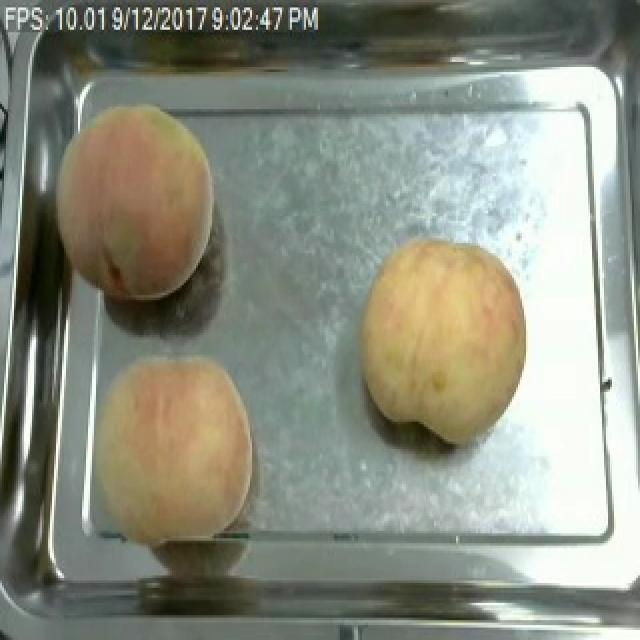Fruit: (348, 228, 536, 447), (74, 340, 262, 556), (42, 94, 224, 313)
